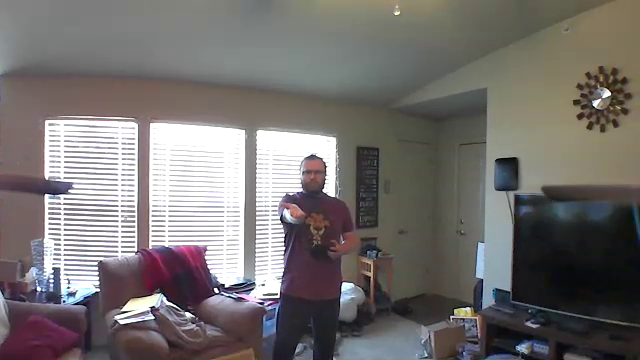land: (279, 199, 310, 226)
